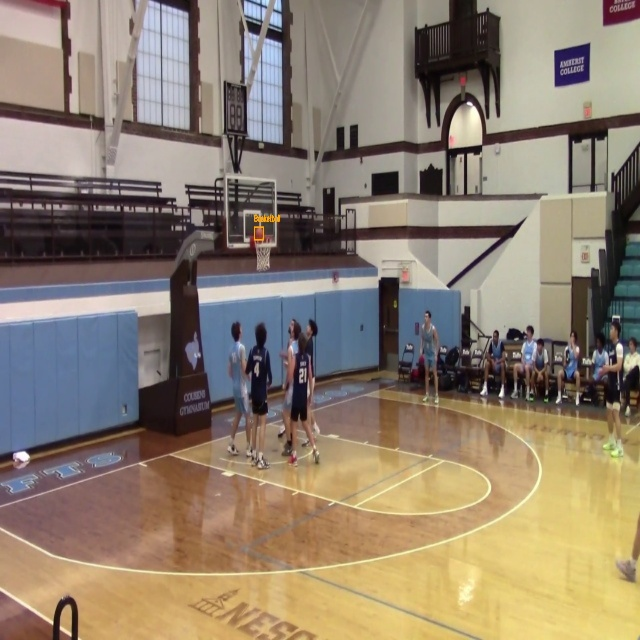Basketball: (254, 227, 264, 240)
